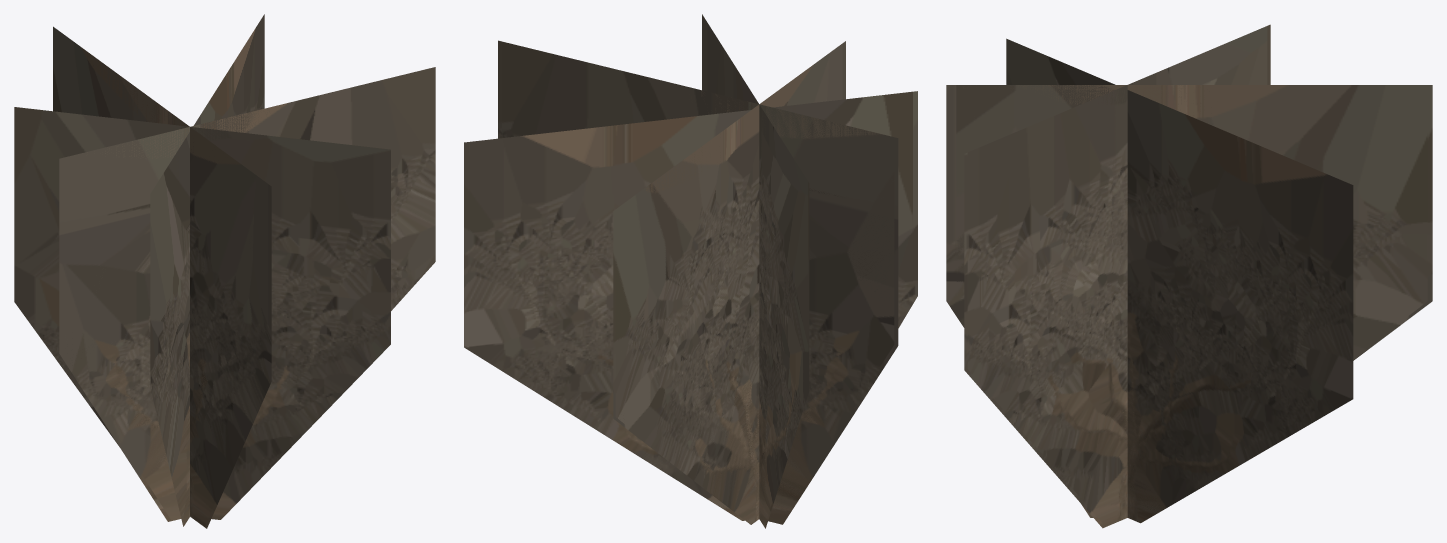
File: DryedTree.FBX
3 views of the same model, side by side, from view 1: azimuth 30°, elevation 25°; view 2: azimuth 150°, elevation 25°; view 3: azimuth 270°, elevation 25° (orthographic). The views are drawn at different scales.
Parts seen in each view (by area): view 1: DryedTree_Billboard; view 2: DryedTree_Billboard; view 3: DryedTree_Billboard.
Boxes of the visible parts, x1,y1,x2,y2 form: DryedTree_Billboard: [14, 14, 435, 528]; DryedTree_Billboard: [464, 14, 917, 528]; DryedTree_Billboard: [946, 24, 1432, 528].
Bounding box in the file's own units: 120 × 119 × 121.
